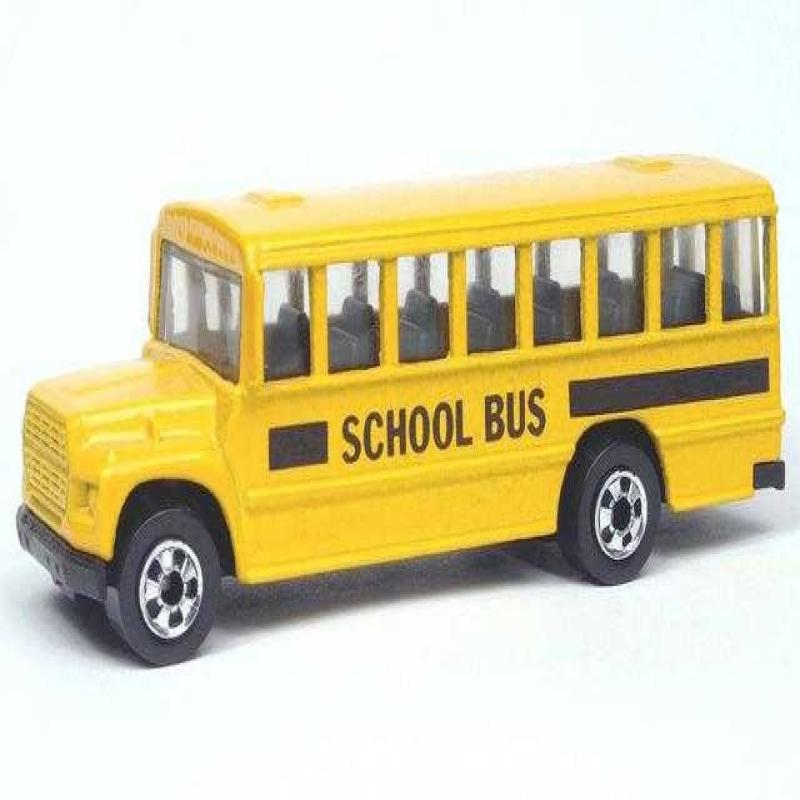bus: (46, 167, 800, 624)
